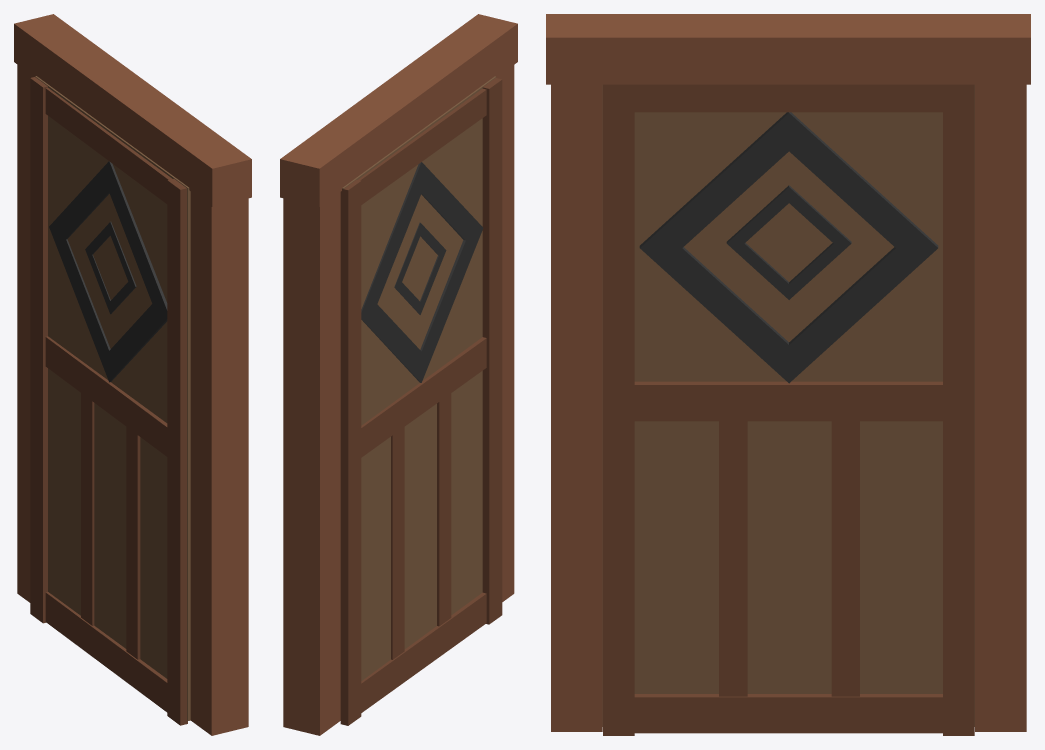
The model's file is woodDoor.fbx.
3 views of the same model, side by side, from view 1: azimuth 30°, elevation 25°; view 2: azimuth 150°, elevation 25°; view 3: azimuth 270°, elevation 25° (orthographic). The views are drawn at different scales.
Visible parts, largest first — view 1: doorFrameLeft, doorFrameTop, woodPanel.002, woodPanel.003, innerFrame5.001, innerFrame1.001, woodPanel.001, woodPanel, darkWood7.001, doorFrameRight, innerFrame4.001, innerFrame2.001 (+5 smaller); view 2: doorFrameRight, doorFrameTop, innerFrame1.001, innerFrame5.001, woodPanel.003, woodPanel.002, woodPanel.001, darkWood7.001, doorFrameLeft, woodPanel, woodPanel.004, innerFrame4.001 (+5 smaller); view 3: doorFrameTop, doorFrameRight, doorFrameLeft, woodPanel.003, woodPanel.002, woodPanel.001, woodPanel, woodPanel.004, darkWood7, innerFrame1, innerFrame5, innerFrame4 (+5 smaller).
Part boxes in pixels (x1,y1,x2,y2): doorFrameLeft: (190, 191, 248, 735); doorFrameTop: (14, 14, 251, 206); woodPanel.002: (131, 147, 165, 676); woodPanel.003: (98, 123, 132, 648); innerFrame5.001: (167, 179, 187, 725); innerFrame1.001: (30, 77, 47, 623); woodPanel.001: (68, 100, 101, 628); woodPanel: (35, 76, 69, 605); darkWood7.001: (49, 161, 167, 382); doorFrameRight: (17, 64, 33, 602); innerFrame4.001: (45, 336, 167, 456); innerFrame2.001: (45, 592, 167, 712); doorFrameRight: (283, 192, 340, 735); doorFrameTop: (280, 14, 517, 206); innerFrame1.001: (340, 179, 361, 725); innerFrame5.001: (482, 78, 502, 624); woodPanel.003: (407, 117, 440, 645); woodPanel.002: (439, 93, 473, 614); woodPanel.001: (375, 139, 409, 669); darkWood7.001: (361, 162, 483, 382); doorFrameLeft: (496, 65, 514, 601); woodPanel: (342, 164, 376, 680); woodPanel.004: (463, 76, 496, 602); innerFrame4.001: (361, 337, 486, 457); doorFrameTop: (546, 14, 1030, 84); doorFrameRight: (975, 84, 1026, 731); doorFrameLeft: (551, 84, 602, 731); woodPanel.003: (739, 112, 819, 693); woodPanel.002: (658, 112, 739, 693); woodPanel.001: (814, 112, 894, 693); woodPanel: (894, 85, 974, 726); woodPanel.004: (602, 85, 683, 726); darkWood7: (639, 112, 938, 383); innerFrame1: (603, 84, 634, 735); innerFrame5: (943, 84, 974, 735); innerFrame4: (634, 381, 942, 421).
Bounding box in the file's own units: 18.77 × 215 × 135.
